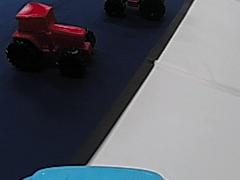Tracktor: (5, 2, 98, 71), (103, 0, 169, 21)
